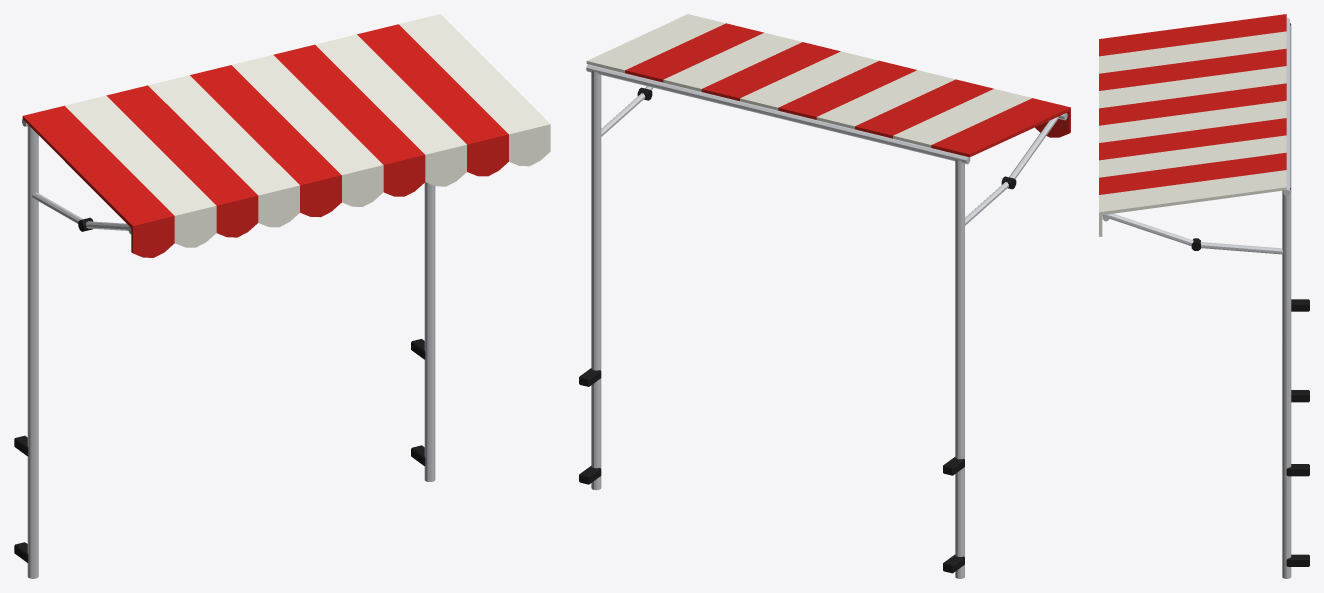
Rendered from toldo_rayado_chico.glb.
The picture shows the model from 3 angles, left to right: view 1: azimuth 30°, elevation 25°; view 2: azimuth 150°, elevation 25°; view 3: azimuth 270°, elevation 25°; orthographic projection. The views are drawn at different scales.
Parts seen in each view (by area): view 1: pieza_tramo, pieza_punta_izq, pieza_punta_der; view 2: pieza_tramo, pieza_punta_izq, pieza_punta_der; view 3: pieza_tramo, pieza_punta_der, pieza_punta_izq.
Part boxes in pixels (x1,y1,x2,y2): pieza_tramo: (106, 34, 466, 237); pieza_punta_izq: (14, 95, 216, 578); pieza_punta_der: (357, 14, 550, 481); pieza_tramo: (661, 32, 993, 145); pieza_punta_izq: (891, 88, 1070, 578); pieza_punta_der: (579, 14, 763, 490); pieza_tramo: (1099, 48, 1289, 177); pieza_punta_der: (1099, 152, 1309, 578); pieza_punta_izq: (1099, 14, 1309, 402).
Size of what is drawn, in the model's own units: 1.6 by 1.7 by 0.822.
